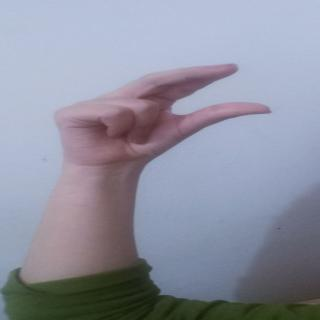DHELL: (46, 60, 274, 151)
